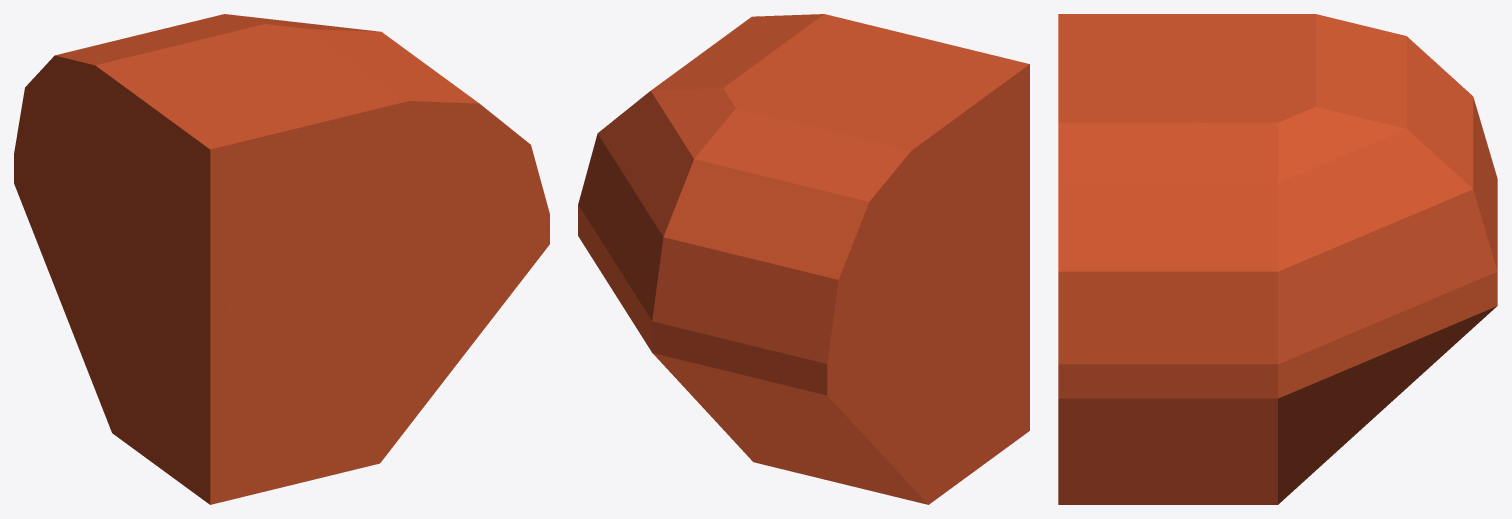
Rendered from EdgeCorner.fbx.
3 renders of one model, left to right at view 1: azimuth 30°, elevation 25°; view 2: azimuth 150°, elevation 25°; view 3: azimuth 270°, elevation 25°, orthographic. The views are drawn at different scales.
Visible parts, largest first — view 1: EdgeCorner; view 2: EdgeCorner; view 3: EdgeCorner.
Part boxes in pixels (x1,y1,x2,y2): EdgeCorner: [14, 14, 549, 504]; EdgeCorner: [578, 14, 1029, 504]; EdgeCorner: [1058, 14, 1497, 504].
Bounding box in the file's own units: 100 × 100 × 100.
